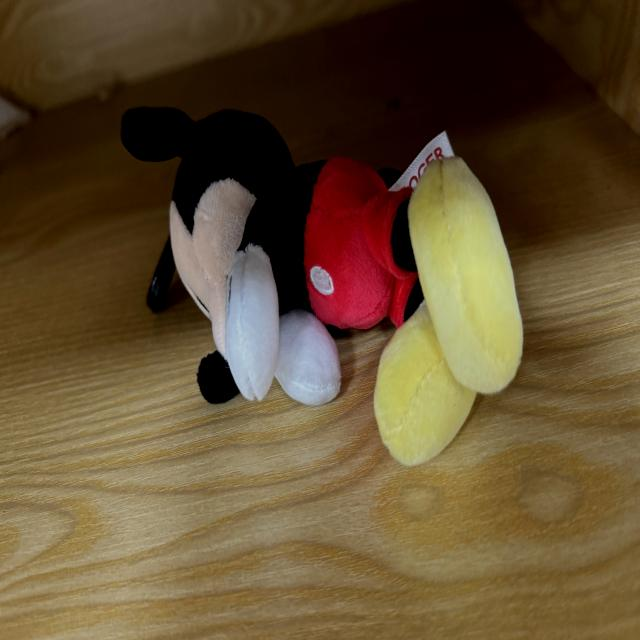mickey: (123, 109, 522, 464)
